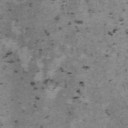oxide scale of temperature system: (30, 66, 90, 100), (38, 12, 84, 53), (0, 51, 20, 86), (8, 2, 32, 30), (107, 12, 128, 36), (104, 109, 112, 117), (14, 119, 18, 123), (106, 54, 109, 57)
